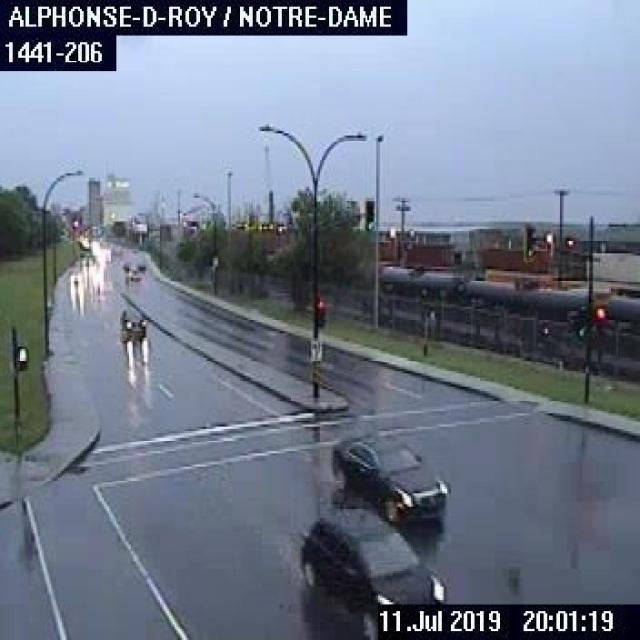vehicle: (296, 506, 450, 638), (323, 426, 452, 530), (118, 304, 147, 338), (120, 259, 144, 282), (67, 269, 82, 287)
